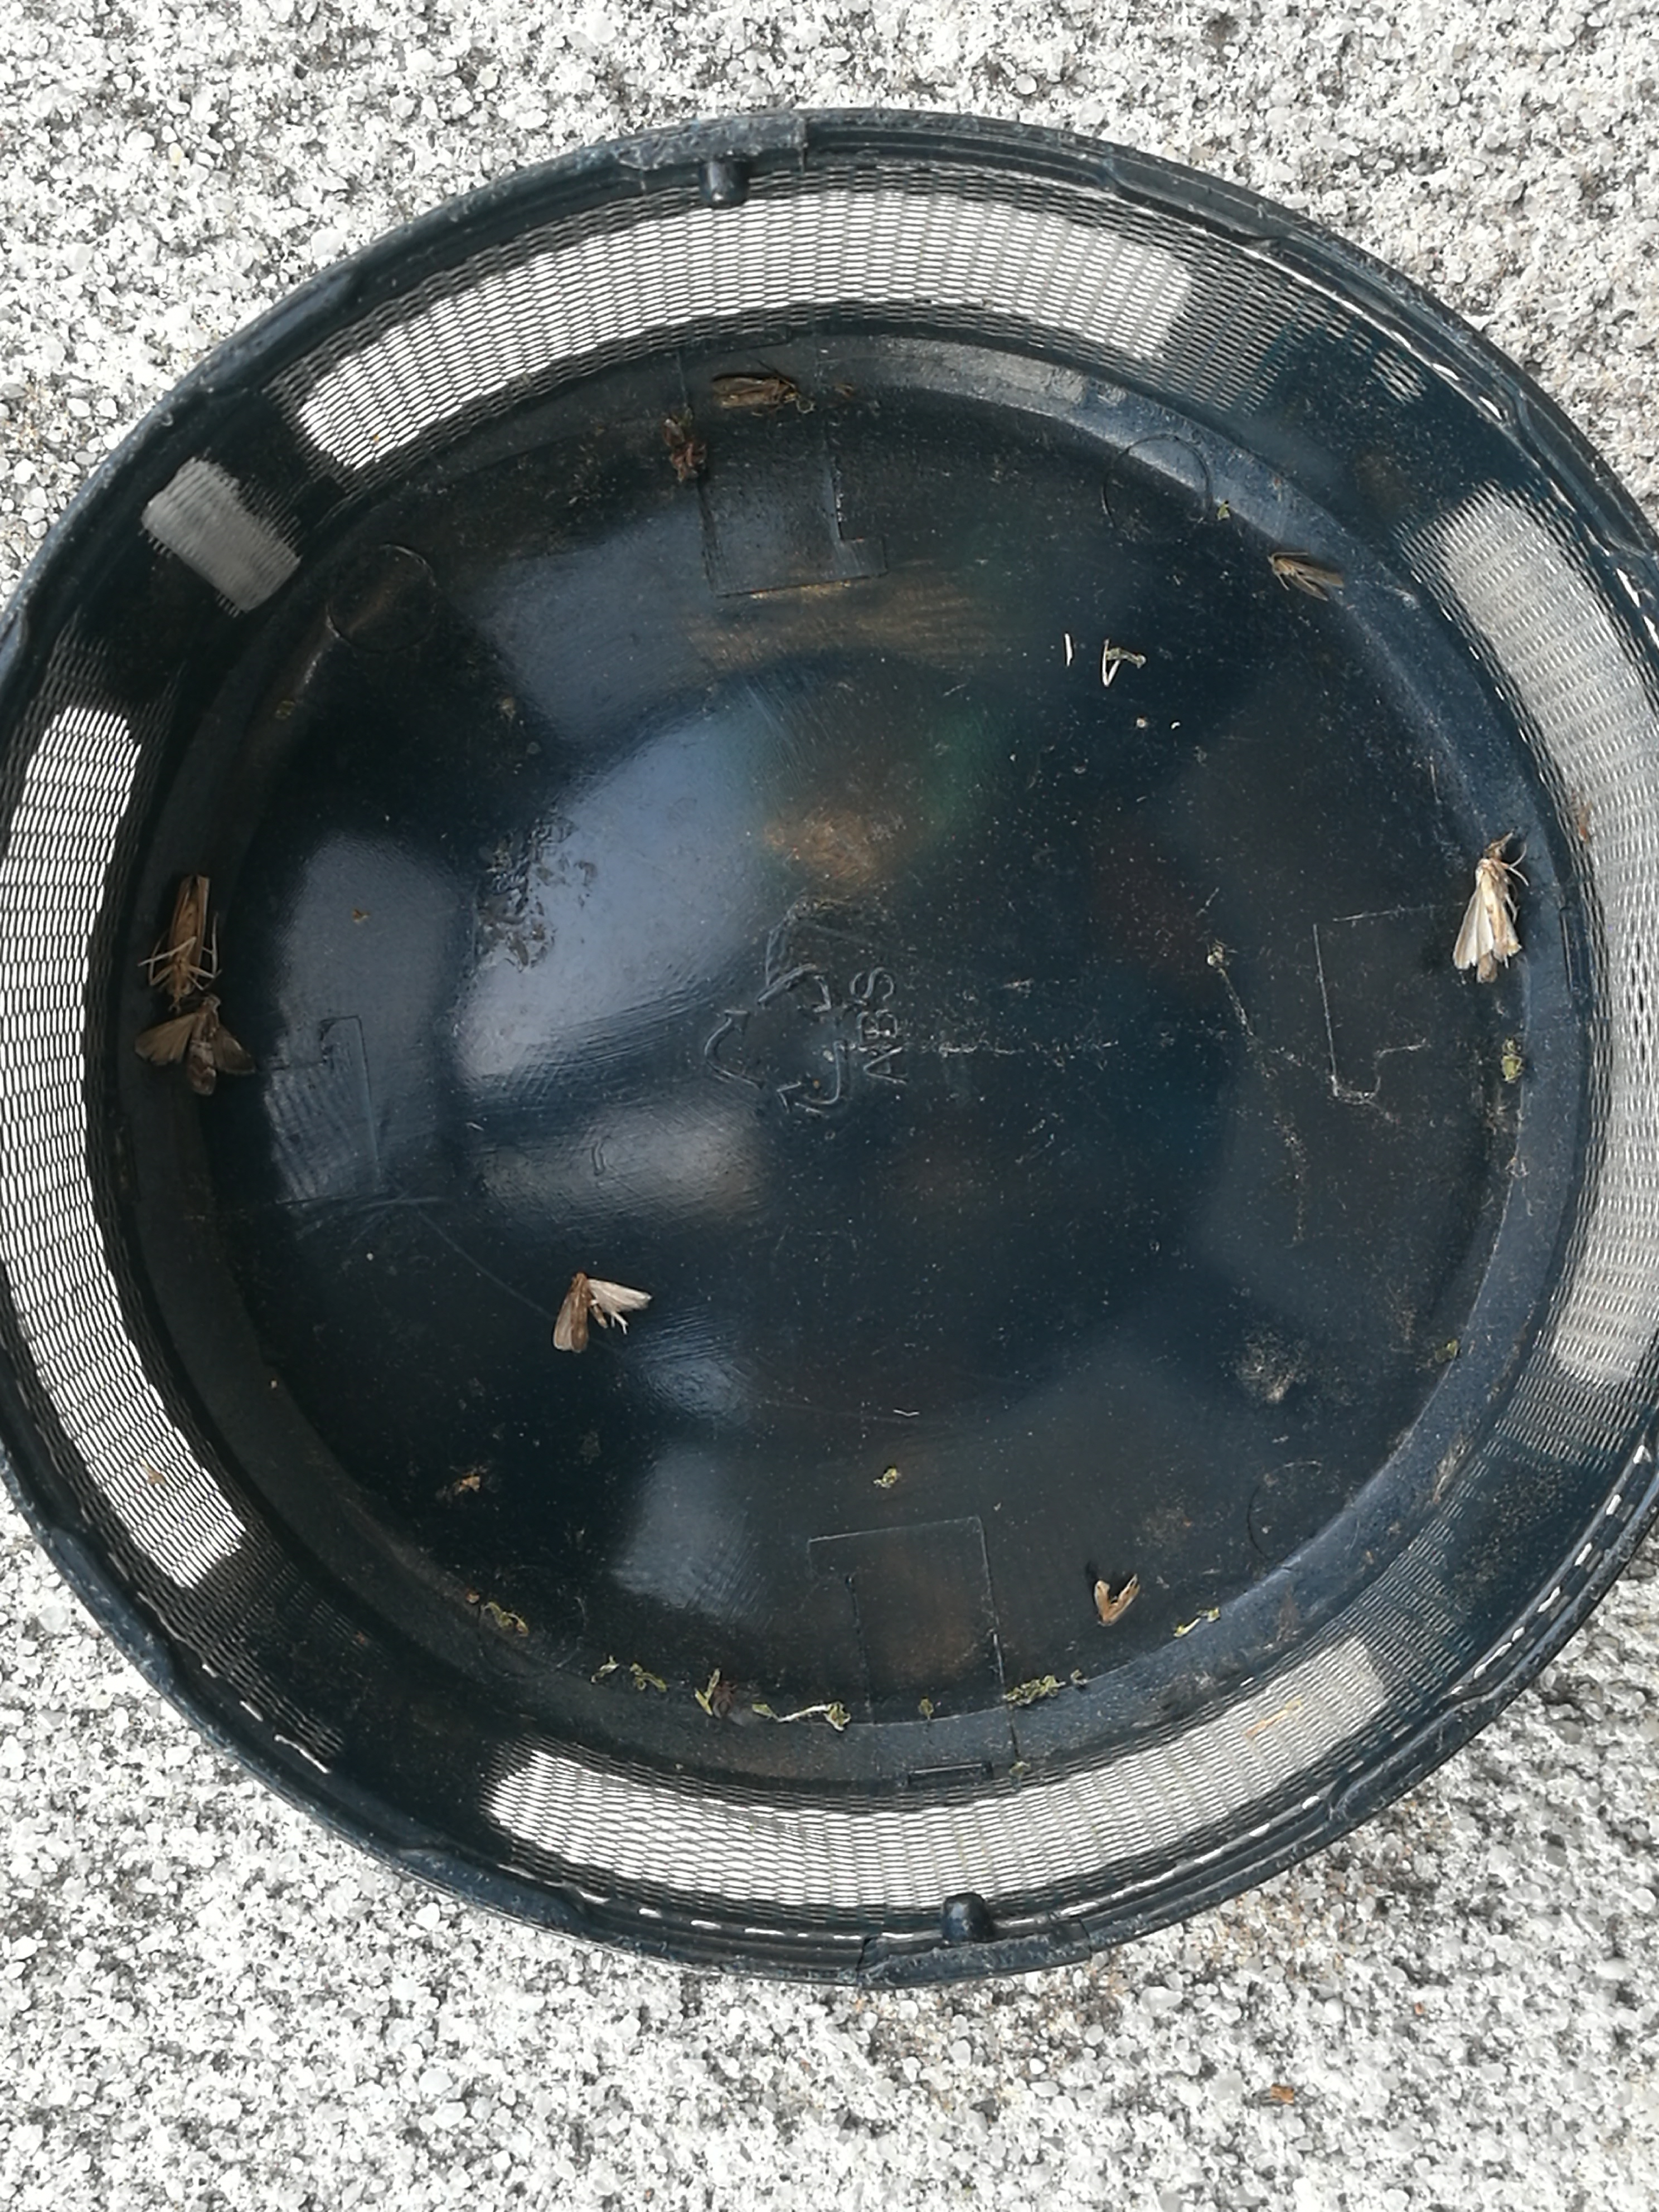mosquito: (169, 874, 206, 995)
moth: (138, 995, 256, 1094), (1453, 841, 1521, 981), (556, 1275, 653, 1353), (714, 373, 786, 408), (1096, 1578, 1140, 1622)
